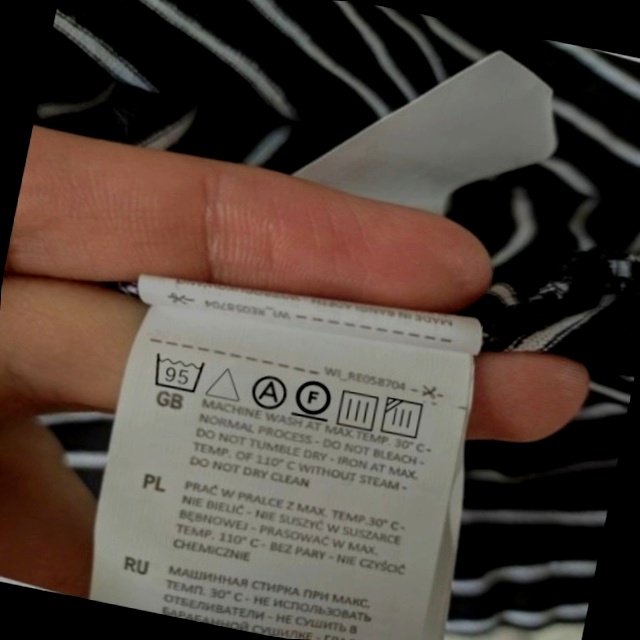95C: (148, 349, 210, 397)
bleach: (205, 359, 246, 406)
drip_dry: (333, 385, 383, 434)
drip_dry_in_shade: (379, 393, 430, 444)
dry_clean: (246, 370, 290, 413)
dry_clean_petrol_only: (291, 373, 337, 424)
